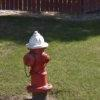Hydrant: (15, 25, 64, 100)
